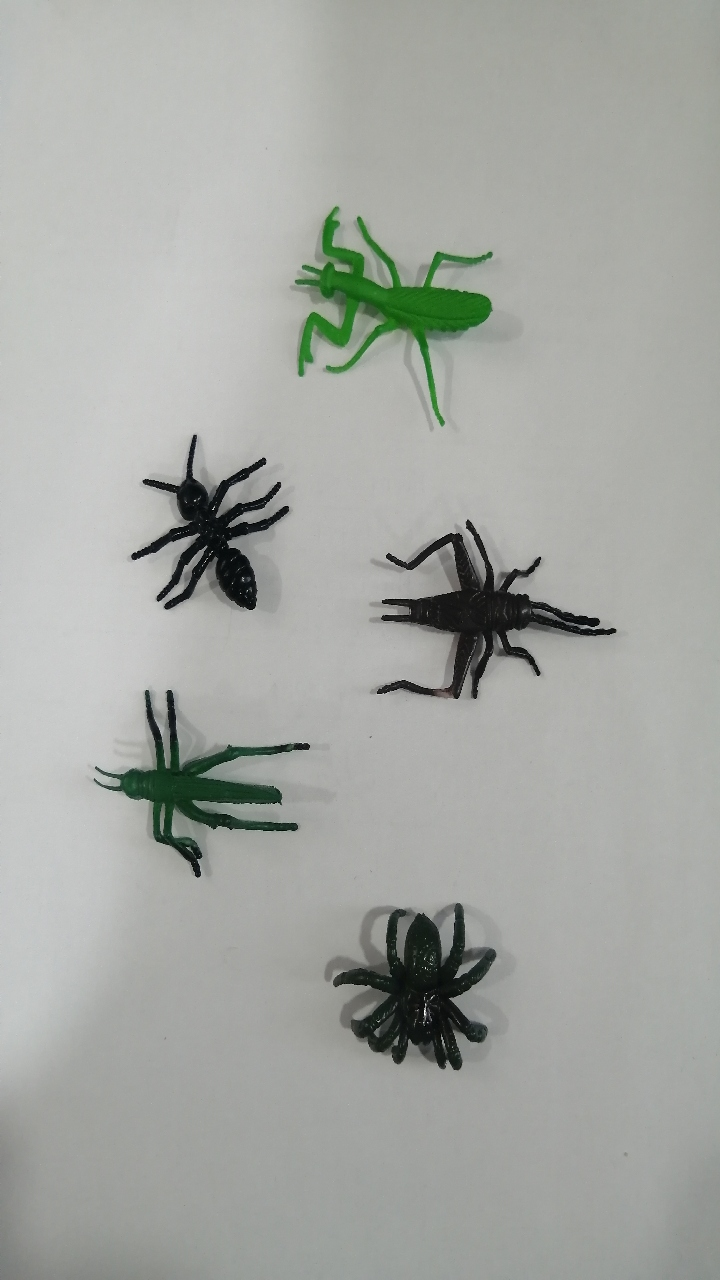intruso: (255, 160, 528, 448), (346, 495, 632, 754), (71, 669, 343, 894), (303, 869, 532, 1109), (97, 415, 315, 659)
